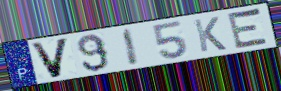5: (150, 19, 190, 61)
9: (76, 33, 111, 74)
E: (226, 6, 272, 51)
I: (121, 27, 141, 67)
K: (191, 15, 228, 54)
V: (28, 37, 72, 80)
